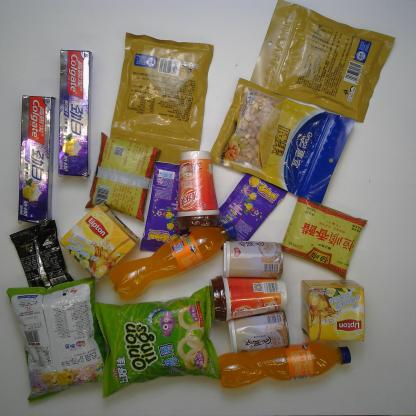Candy: (135, 160, 201, 257), (212, 170, 288, 254)
Canned Food: (225, 307, 293, 358), (216, 235, 288, 282)
Dried Fruit: (207, 73, 357, 208), (246, 0, 397, 128), (108, 28, 218, 168)
Drink: (106, 216, 240, 304), (215, 339, 356, 392)
Instant Drink: (56, 198, 146, 284), (7, 216, 77, 294), (297, 275, 369, 346), (207, 270, 291, 326), (173, 146, 227, 233)
Personal Hygiene: (15, 89, 57, 229), (55, 47, 95, 181)
Puffed Food: (91, 282, 227, 401), (3, 269, 113, 406)
Seasoner: (279, 192, 371, 284), (83, 129, 163, 226)
